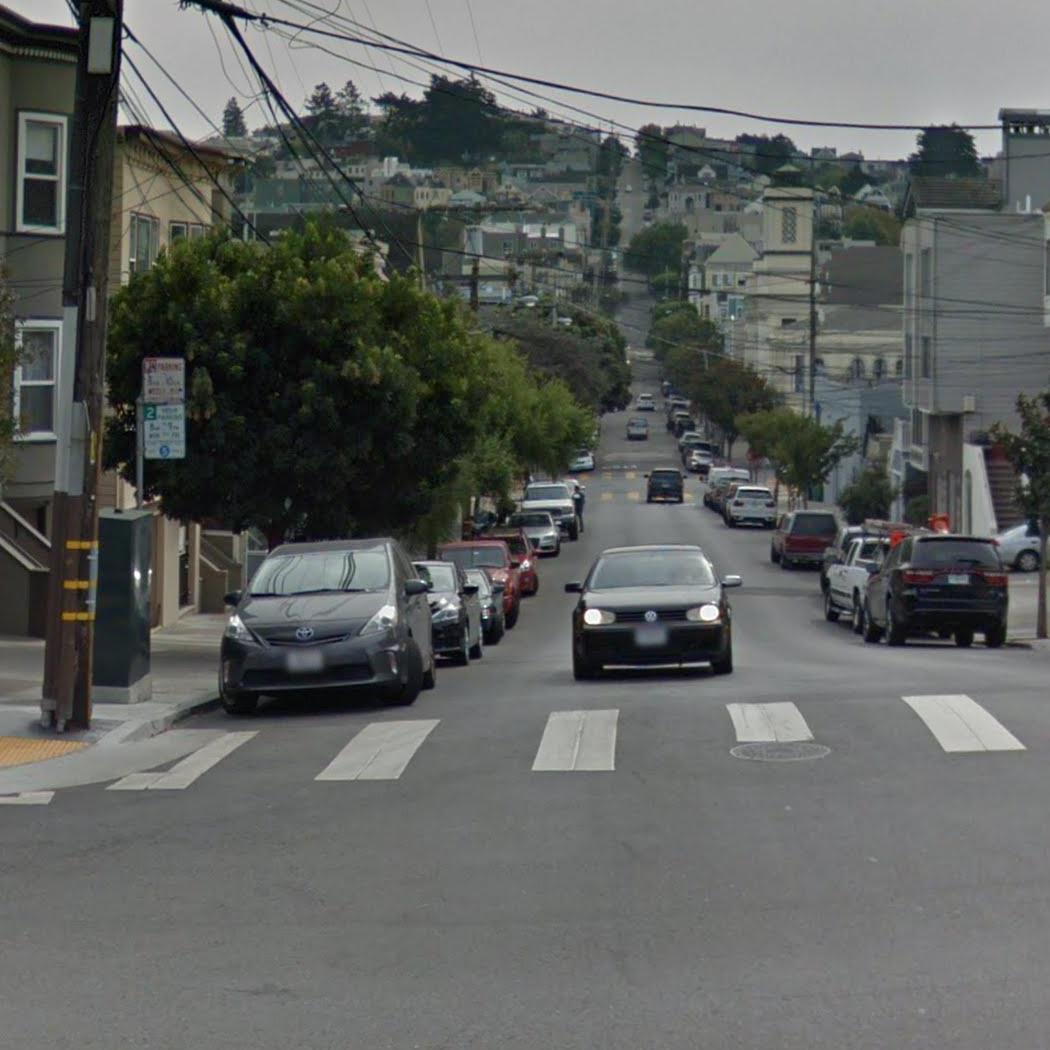2 Hour Parking: (140, 402, 188, 462)
No Parking: (140, 356, 187, 404)
